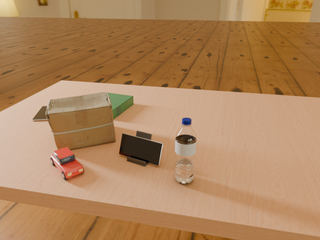book: (108, 93, 133, 119)
bottle: (174, 118, 197, 184)
box: (45, 92, 116, 149)
phone: (119, 133, 163, 166), (32, 106, 47, 121)
toy_car: (51, 147, 84, 180)
